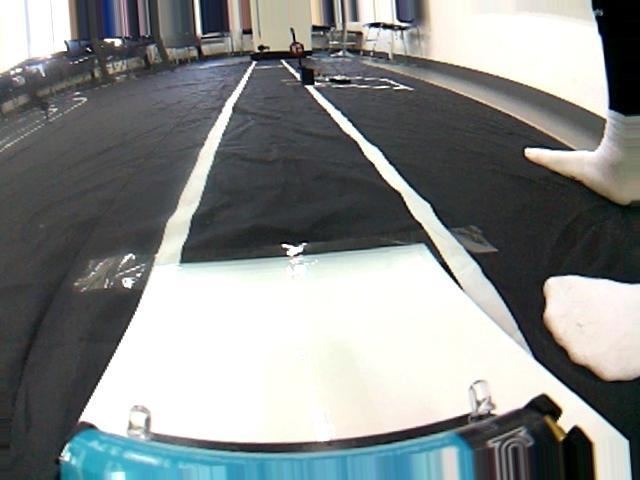hill_down: (79, 210, 534, 418)
